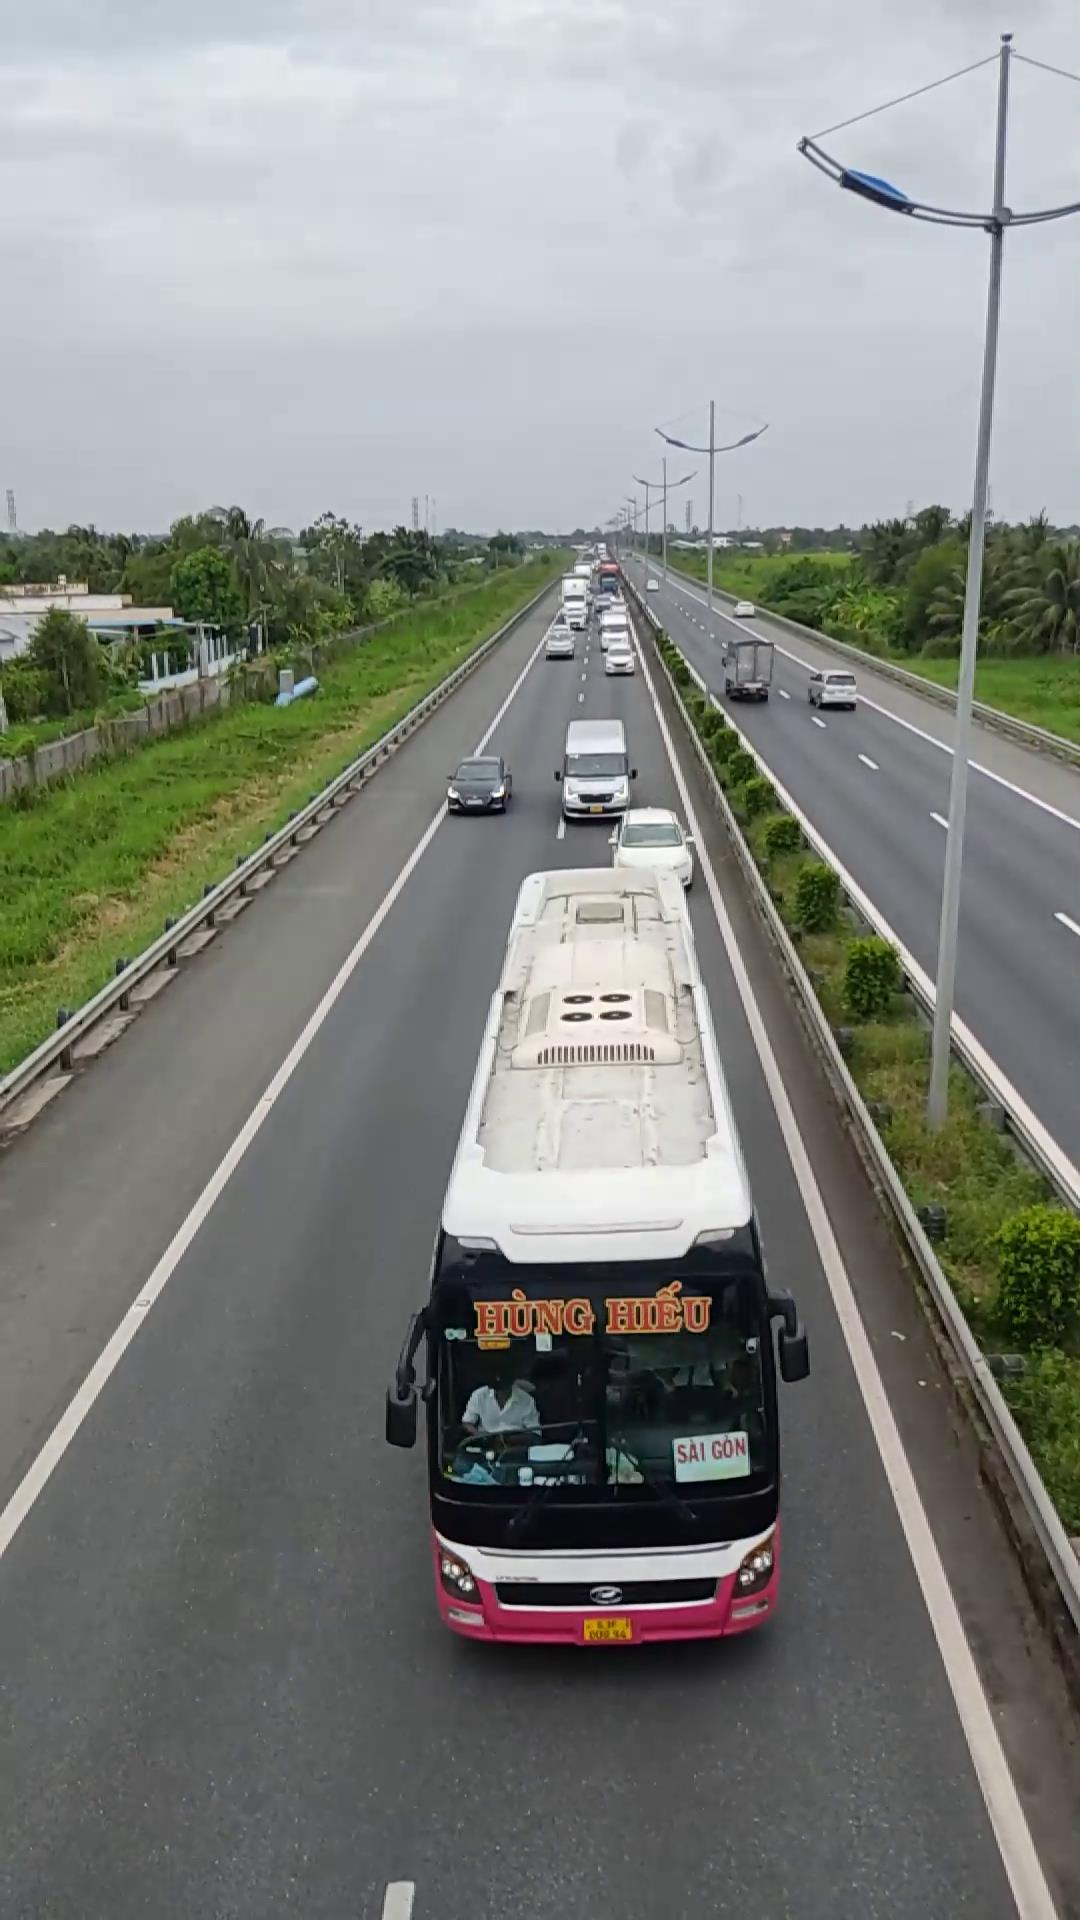bus: (391, 819, 803, 1646)
car: (554, 715, 634, 819), (445, 753, 514, 814)
